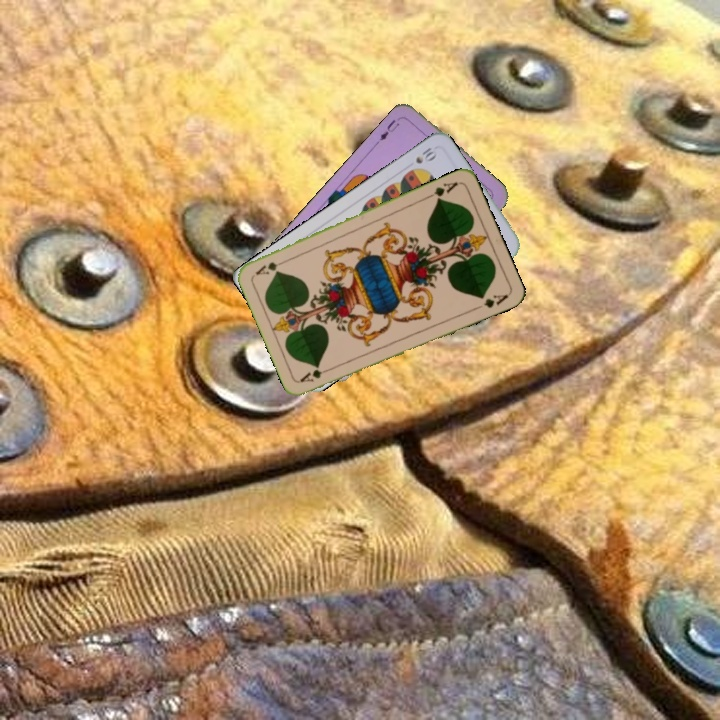EU: (373, 112, 405, 146)
GA: (423, 178, 461, 203), (296, 363, 336, 385)
S10: (411, 143, 440, 166)
